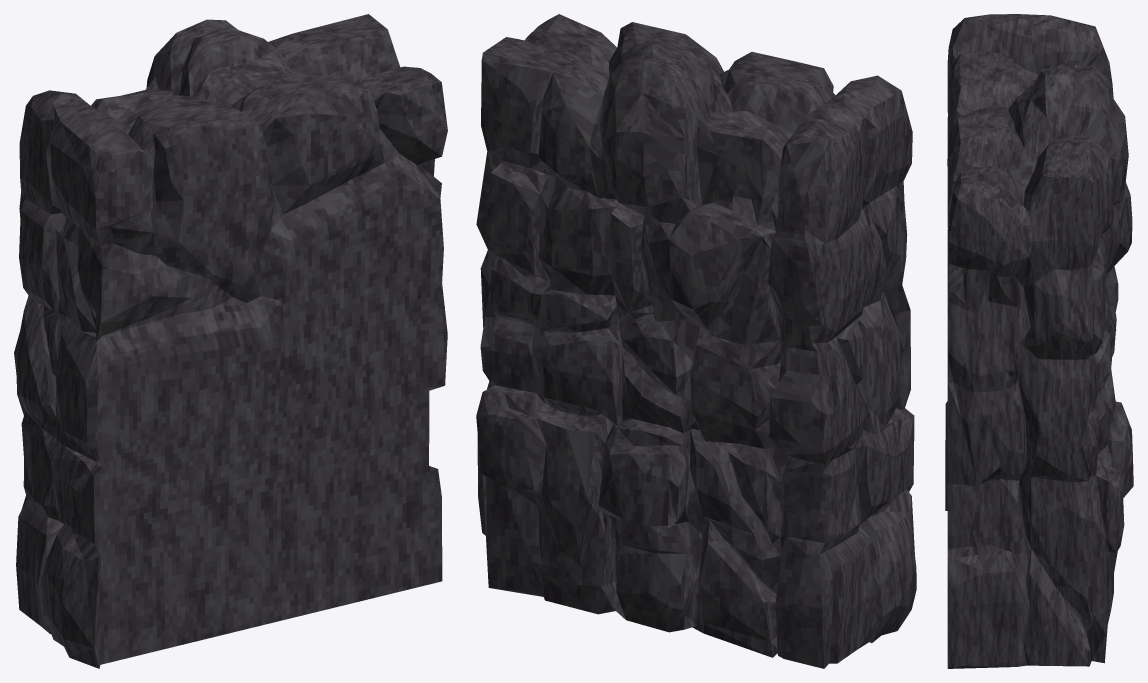
Rendered from stone-wall4.glb.
3 renders of one model, left to right at view 1: azimuth 30°, elevation 25°; view 2: azimuth 150°, elevation 25°; view 3: azimuth 270°, elevation 25°, orthographic. The views are drawn at different scales.
Visible parts, largest first — view 1: Cube.002; view 2: Cube.002; view 3: Cube.002.
Boxes of the visible parts, x1=… form: Cube.002: x1=14, y1=14, x2=447, y2=668; Cube.002: x1=476, y1=14, x2=916, y2=668; Cube.002: x1=945, y1=14, x2=1133, y2=668.
Size of the model in its own units: 4.68 by 6.47 by 2.09.
Materials: 1 (1 with a texture image).
